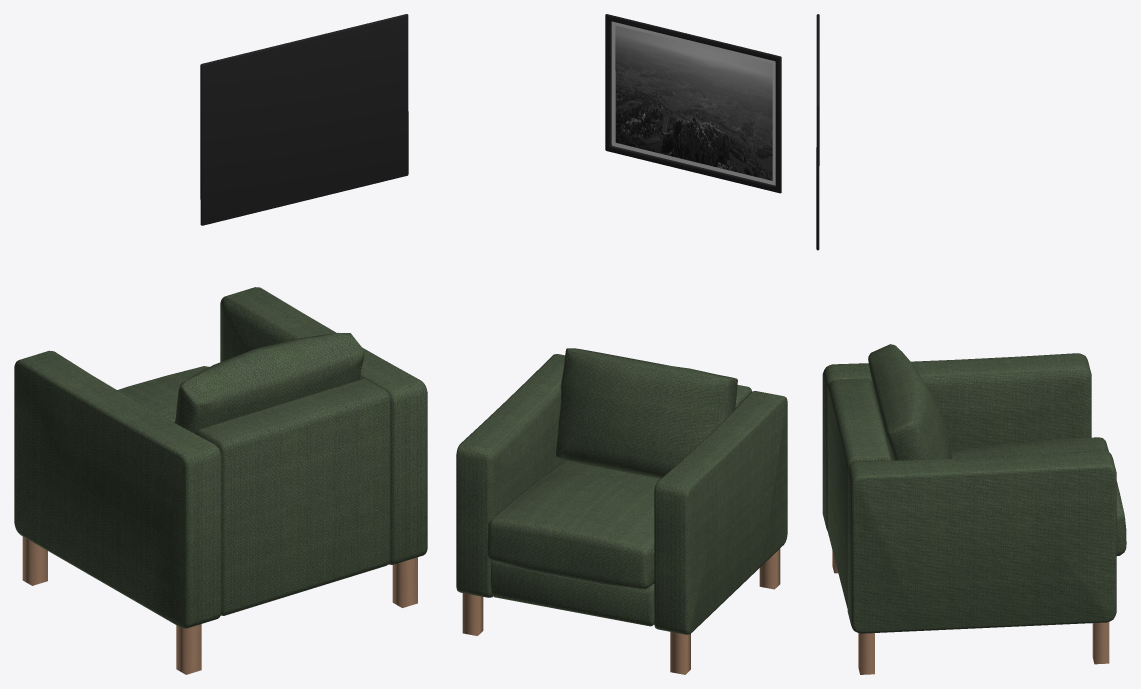
File: arredamento_sx.glb
3 views of the same model, side by side, from view 1: azimuth 30°, elevation 25°; view 2: azimuth 150°, elevation 25°; view 3: azimuth 270°, elevation 25° (orthographic). The views are drawn at different scales.
Parts seen in each view (by area): view 1: Sedia, Quadro; view 2: Sedia, Quadro; view 3: Sedia, Quadro.
Part boxes in pixels (left/top/right/bottom): Sedia: left=14, top=287, right=427, bottom=674; Quadro: left=200, top=14, right=408, bottom=225; Sedia: left=456, top=348, right=787, bottom=674; Quadro: left=605, top=14, right=781, bottom=193; Sedia: left=822, top=344, right=1126, bottom=674; Quadro: left=816, top=14, right=819, bottom=250.
Bounding box in the file's own units: 0.9148 × 1.89 × 0.9554.
Materials: 5 (3 with a texture image).
